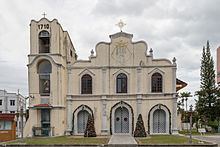Church: (21, 8, 179, 137)
